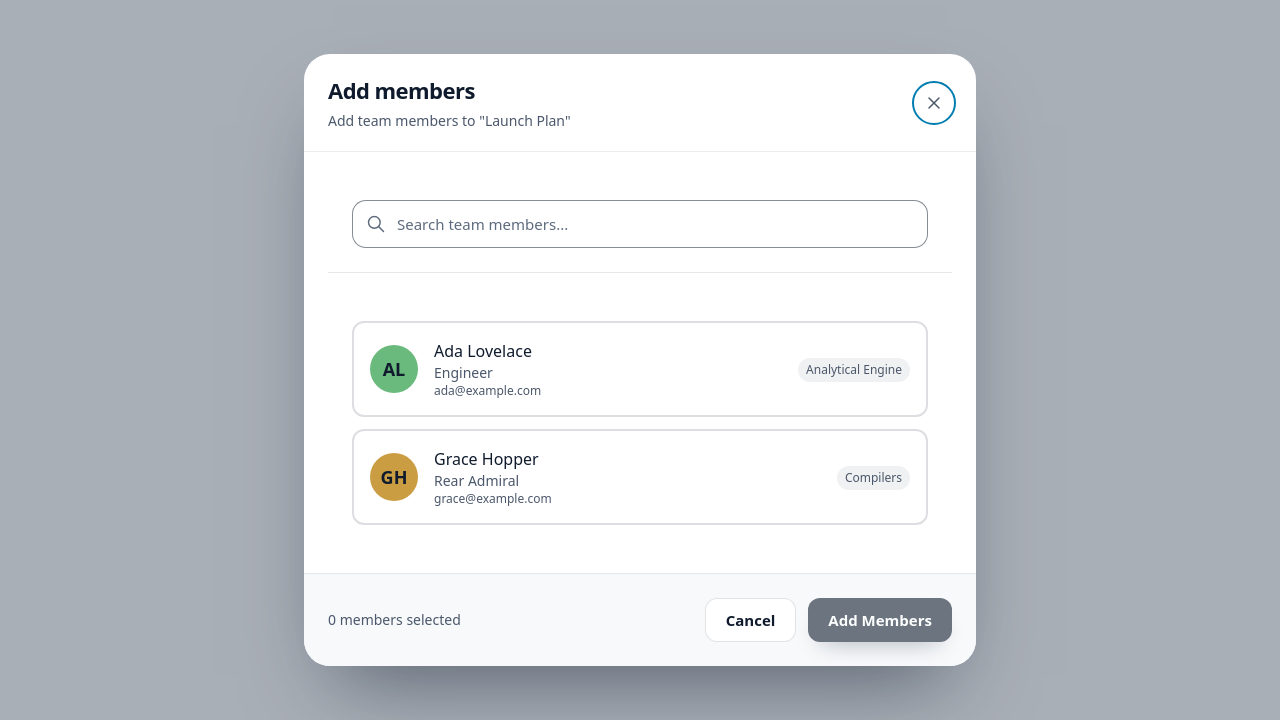
Test: AddMemberModal selecting › marks a chosen person as pressed and counts them
The width and height of the screenshot is (1280, 720).
expect the heading "Ada Lovelace" is shown: met, box x1=434 y1=340 x2=532 y2=362
Click the button "AL Ada Lovelace Engineer ada@example.com Analytical Engine". click: (394, 369)
box: x1=352 y1=321 x2=928 y2=417
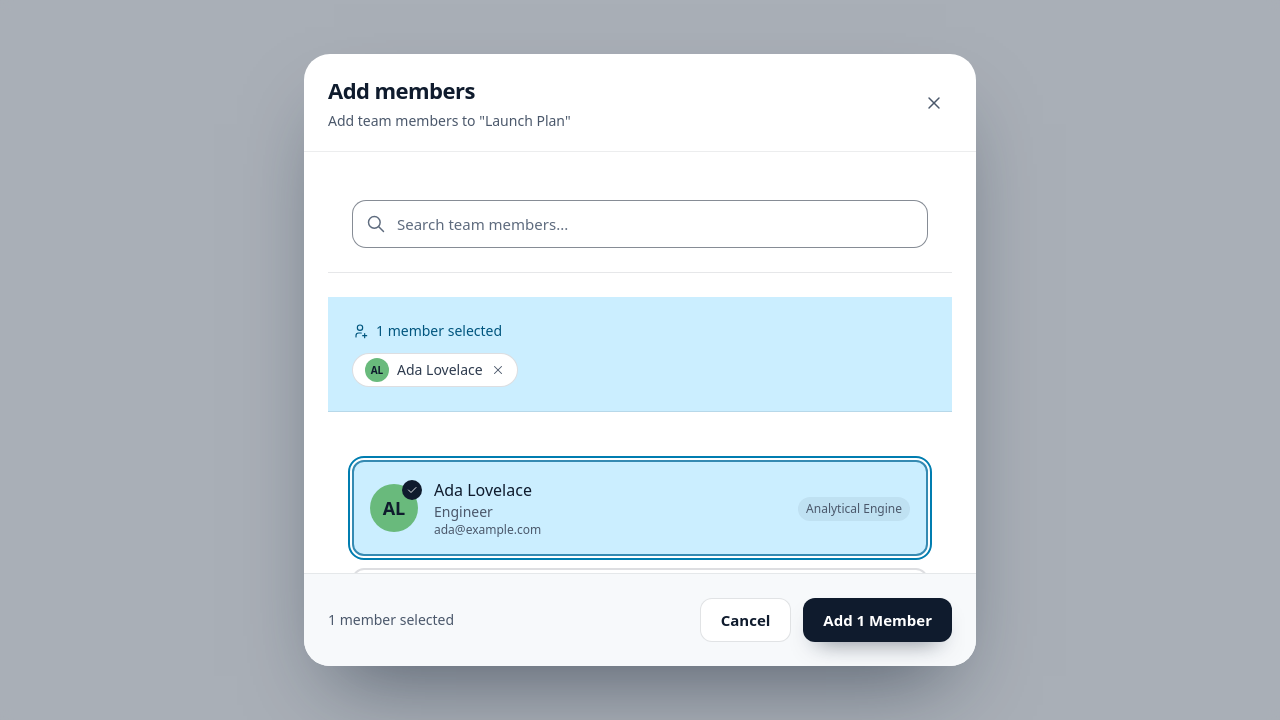
expect the button "Add 1 Member" is enabled: met, box x1=803 y1=598 x2=952 y2=642
